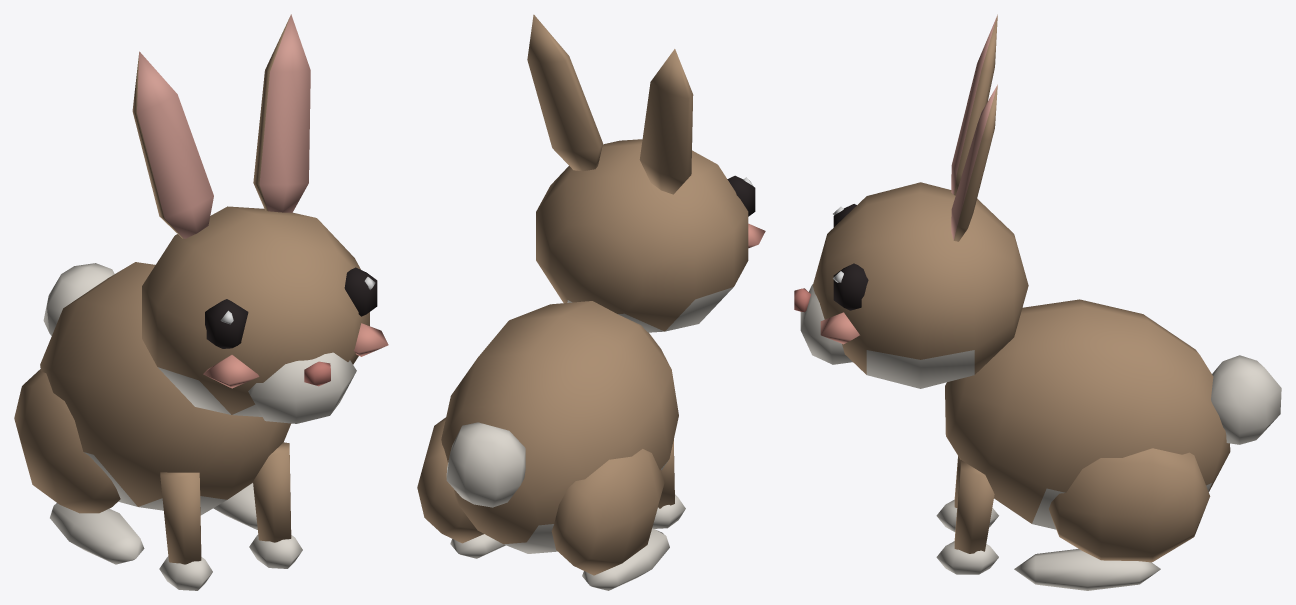
Rendered from rabbit.glb.
3 renders of one model, left to right at view 1: azimuth 30°, elevation 25°; view 2: azimuth 150°, elevation 25°; view 3: azimuth 270°, elevation 25°, orthographic. The views are drawn at different scales.
Visible parts, largest first — view 1: head, body, leg_br, head_body_nh, leg_fr, leg_fl, tail, leg_bl; view 2: head, body, leg_br, tail, leg_bl, leg_fr, head_body_nh; view 3: body, head, leg_bl, tail, leg_fl, head_body_nh, leg_fr.
Part boxes in pixels (<box>): head: <box>132,14,369,423</box>; body: <box>40,262,291,515</box>; leg_br: <box>14,369,144,564</box>; head_body_nh: <box>203,267,388,388</box>; leg_fr: <box>159,472,212,590</box>; leg_fl: <box>249,442,302,568</box>; tail: <box>43,263,114,335</box>; leg_bl: <box>213,483,257,529</box>; head: <box>527,14,748,332</box>; body: <box>441,301,678,553</box>; leg_br: <box>551,449,669,590</box>; tail: <box>446,422,525,507</box>; leg_bl: <box>417,417,505,558</box>; leg_fr: <box>652,439,685,528</box>; head_body_nh: <box>727,175,765,248</box>; body: <box>945,299,1230,529</box>; head: <box>794,14,1028,388</box>; leg_bl: <box>1014,448,1210,590</box>; tail: <box>1211,355,1281,444</box>; leg_fl: <box>936,460,998,574</box>; head_body_nh: <box>820,204,868,344</box>; leg_fr: <box>936,456,998,531</box>.
Bounding box in the file's own units: 0.2526 × 0.5659 × 0.4964.
